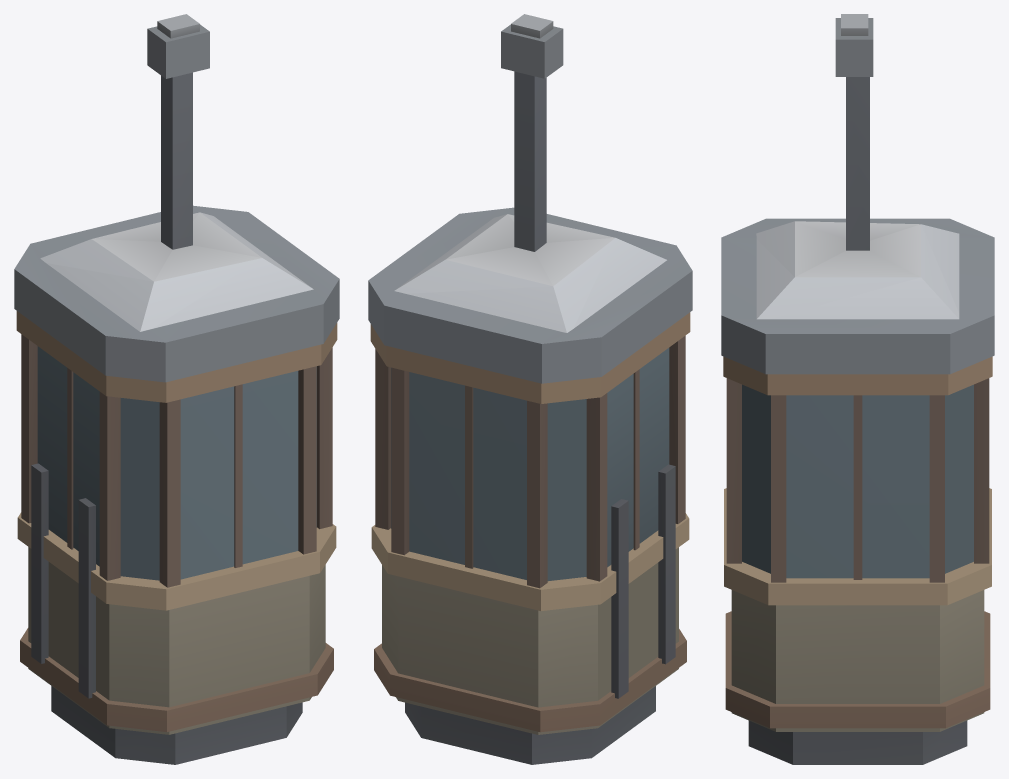
File: gondola.lod1.glb
3 renders of one model, left to right at view 1: azimuth 30°, elevation 25°; view 2: azimuth 150°, elevation 25°; view 3: azimuth 270°, elevation 25°, orthographic.
Bounding box in the file's own units: 1.6 × 4.51 × 1.6.
